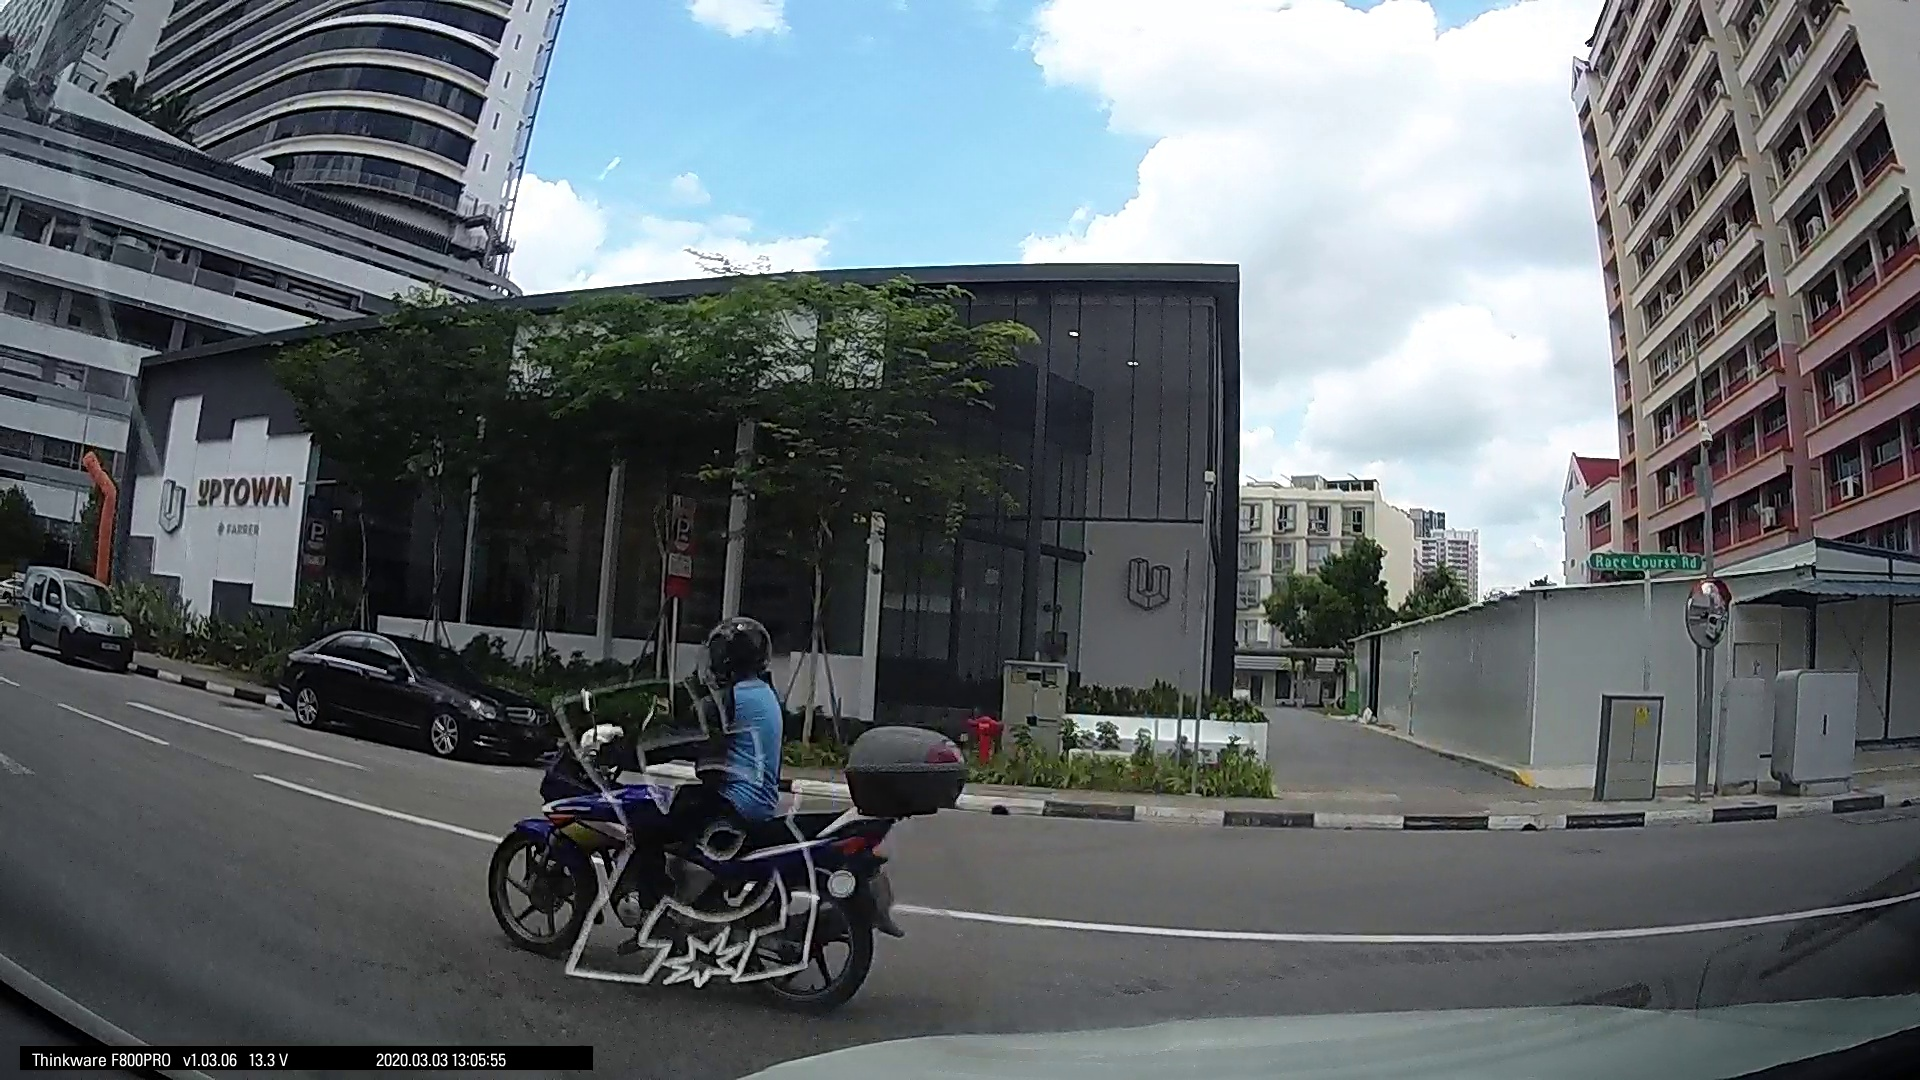Light Vehicle: (268, 622, 558, 764), (5, 559, 140, 673)
Motorcycle: (481, 663, 930, 996)
